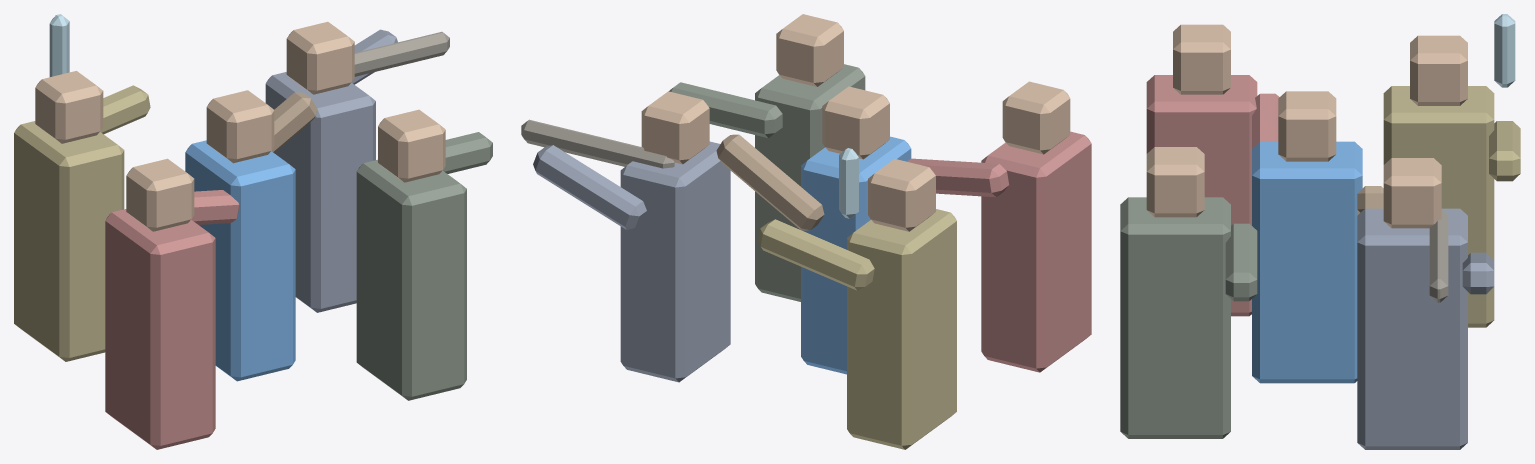
Rendered from angry_mob.glb.
3 views of the same model, side by side, from view 1: azimuth 30°, elevation 25°; view 2: azimuth 150°, elevation 25°; view 3: azimuth 270°, elevation 25° (orthographic). The views are drawn at different scales.
Parts seen in each view (by area): view 1: angry_mob; view 2: angry_mob; view 3: angry_mob.
Part boxes in pixels (x1=…): angry_mob: x1=14, y1=14, x2=492, y2=449; angry_mob: x1=521, y1=14, x2=1091, y2=449; angry_mob: x1=1120, y1=14, x2=1520, y2=449.
Bounding box in the file's own units: 2 × 1.3 × 1.52.
